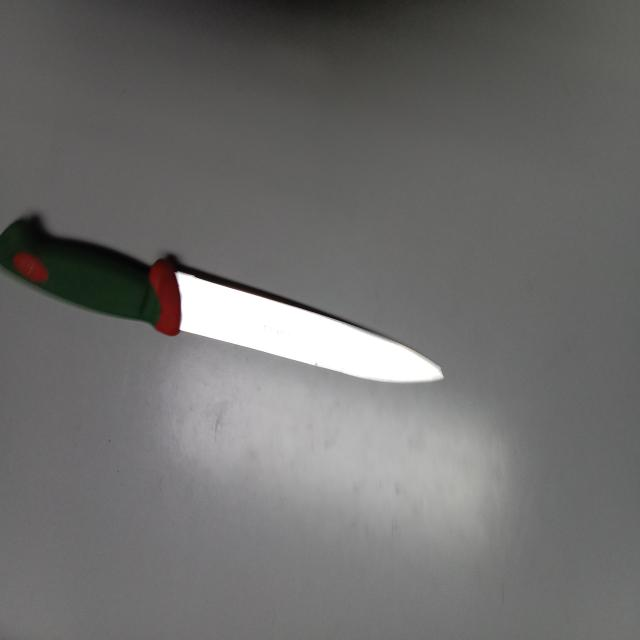Knife: (0, 216, 444, 382)
